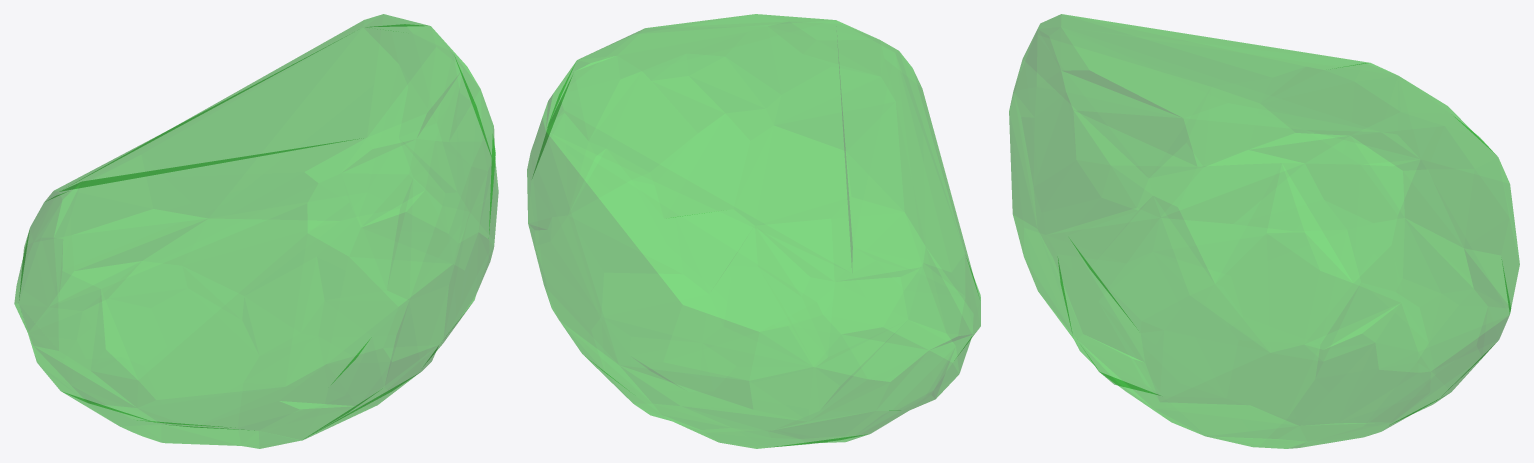
The model's file is talos_rleg_rom.dae.
The picture shows the model from 3 angles, left to right: view 1: azimuth 30°, elevation 25°; view 2: azimuth 150°, elevation 25°; view 3: azimuth 270°, elevation 25°; orthographic projection. The views are drawn at different scales.
Parts seen in each view (by area): view 1: Talos_Rleg_Rom; view 2: Talos_Rleg_Rom; view 3: Talos_Rleg_Rom.
Boxes of the visible parts, x1,y1,x2,y2 form: Talos_Rleg_Rom: [14, 14, 498, 448]; Talos_Rleg_Rom: [527, 14, 980, 448]; Talos_Rleg_Rom: [1009, 14, 1519, 448].
Size of the model in its own units: 1.49 by 1.32 by 1.18.
